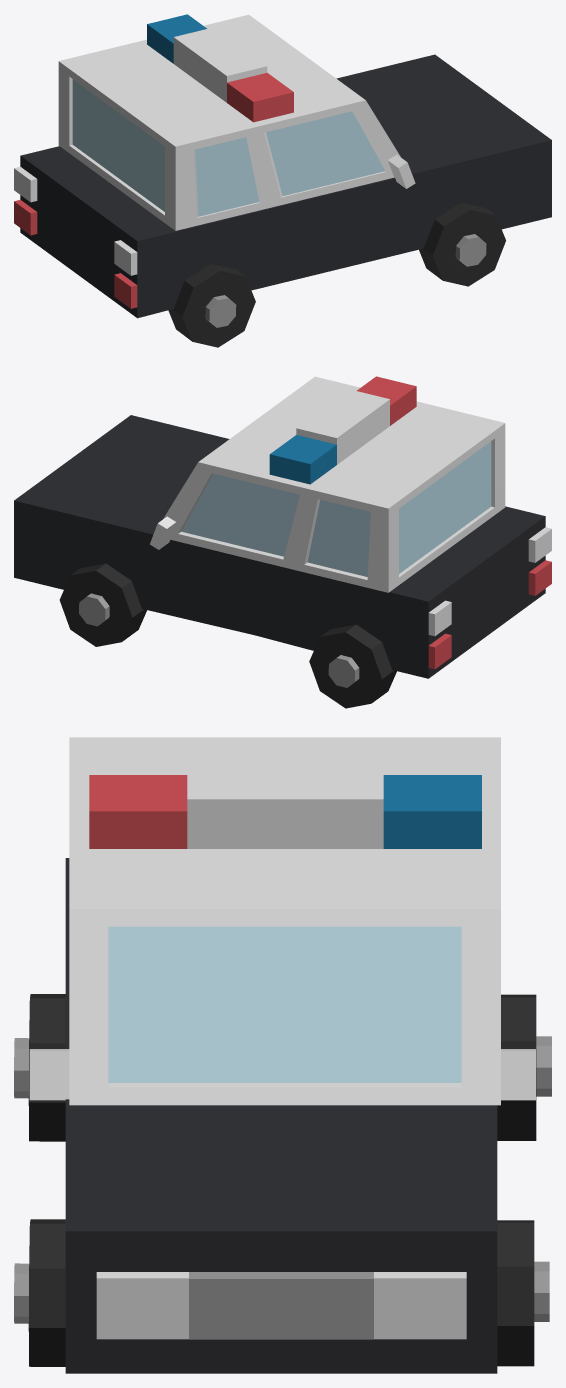
File: cop.fbx
3 renders of one model, top to bottom at view 1: azimuth 30°, elevation 25°; view 2: azimuth 150°, elevation 25°; view 3: azimuth 270°, elevation 25°, orthographic. The views are drawn at different scales.
Visible parts, largest first — view 1: Body, wheel1, wheel0; view 2: Body, wheel3, wheel2; view 3: Body, wheel2, wheel0, wheel3, wheel1.
Boxes of the visible parts, x1,y1,x2,y2 form: Body: [14, 14, 551, 318]; wheel1: [168, 264, 255, 347]; wheel0: [419, 202, 505, 286]; Body: [14, 376, 551, 678]; wheel3: [309, 624, 396, 708]; wheel2: [59, 563, 147, 646]; Body: [29, 737, 535, 1373]; wheel2: [497, 1220, 549, 1366]; wheel0: [14, 1219, 65, 1366]; wheel3: [497, 994, 551, 1140]; wheel1: [14, 994, 65, 1141].
Bounding box in the file's own units: 423 × 215 × 249.
